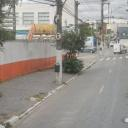NoEstacionar: (54, 30, 62, 42)
